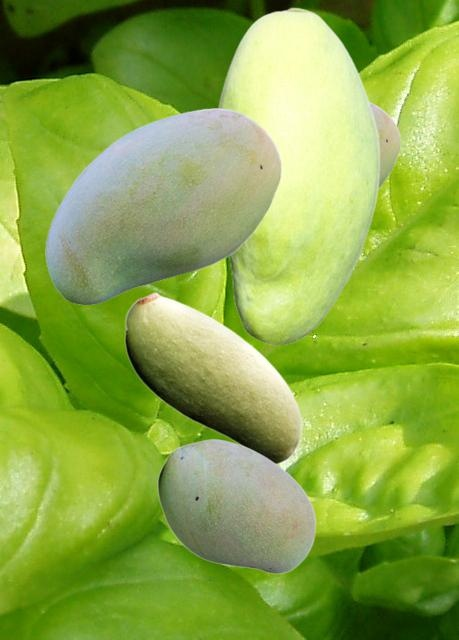green_mango: (215, 7, 379, 344), (45, 108, 281, 303), (124, 291, 301, 464), (157, 438, 315, 573), (371, 102, 400, 188)
